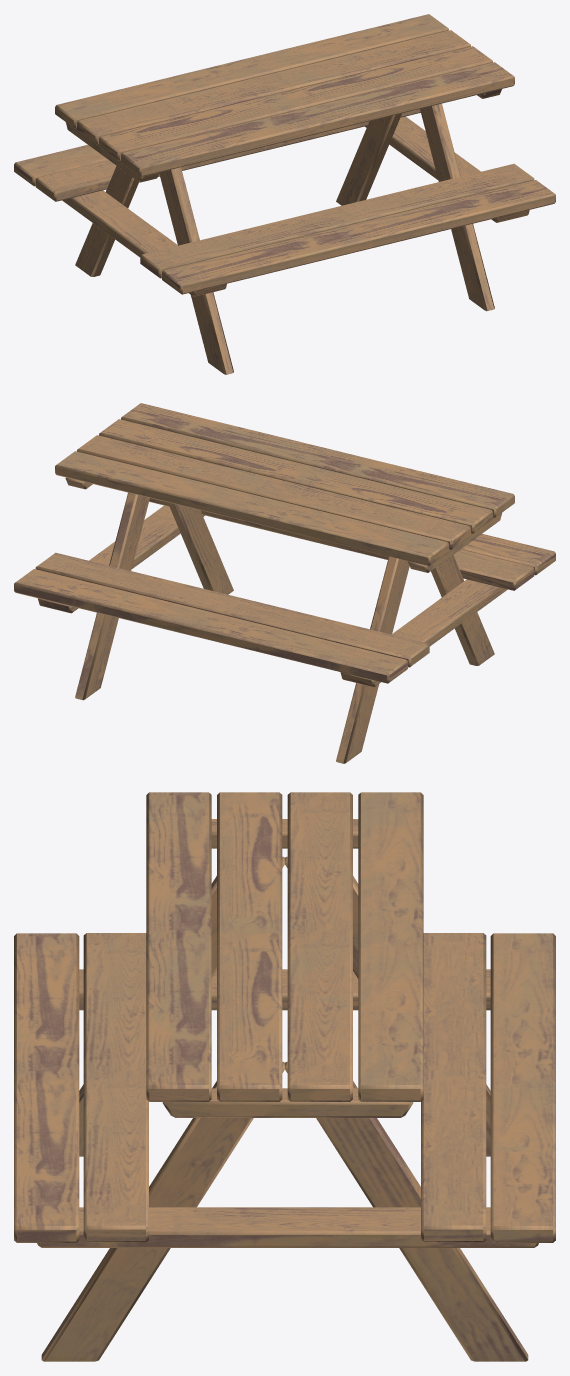
Rendered from table.glb.
3 renders of one model, top to bottom at view 1: azimuth 30°, elevation 25°; view 2: azimuth 150°, elevation 25°; view 3: azimuth 270°, elevation 25°, orthographic. The views are drawn at different scales.
Parts seen in each view (by area): view 1: Cube.009; view 2: Cube.009; view 3: Cube.009.
Part boxes in pixels (<box>): Cube.009: <box>14,14,555,374</box>; Cube.009: <box>14,403,555,763</box>; Cube.009: <box>14,792,555,1361</box>.
Bounding box in the file's own units: 5.2 × 2.61 × 4.03.
1 material, 1 textured.
